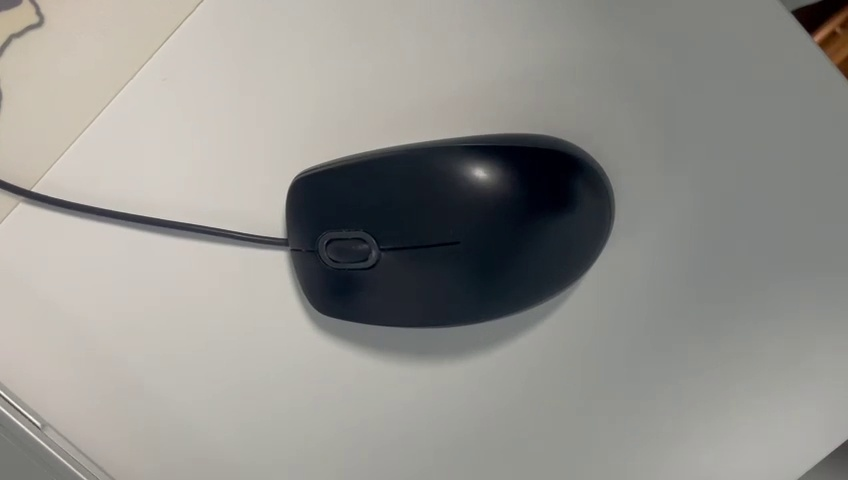objeto: (266, 122, 628, 336)
